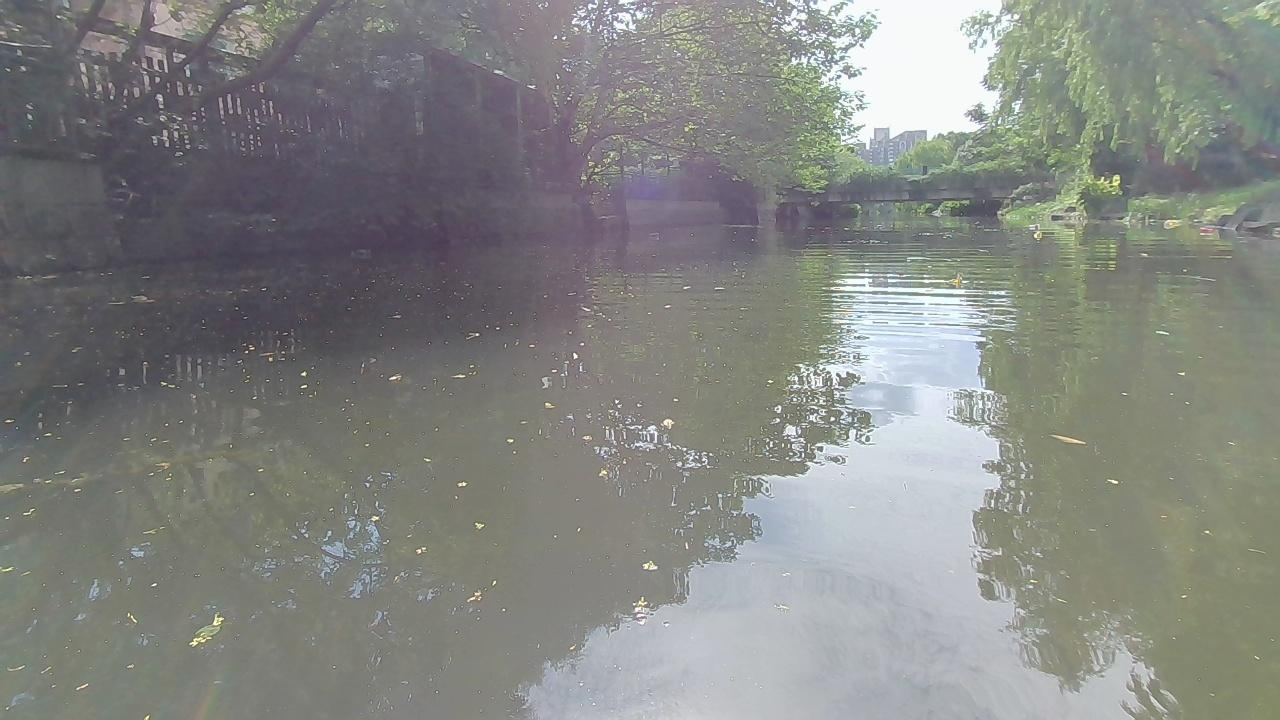bottle: (1198, 226, 1218, 236), (1162, 218, 1183, 227), (1033, 231, 1043, 242), (1026, 222, 1040, 228)
